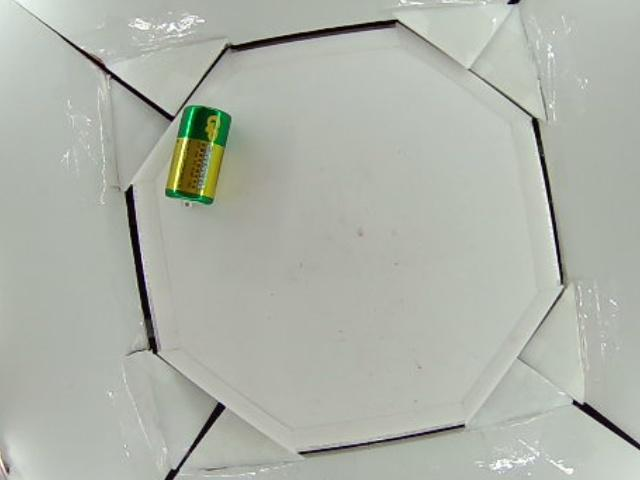Battery: (165, 105, 231, 210)
